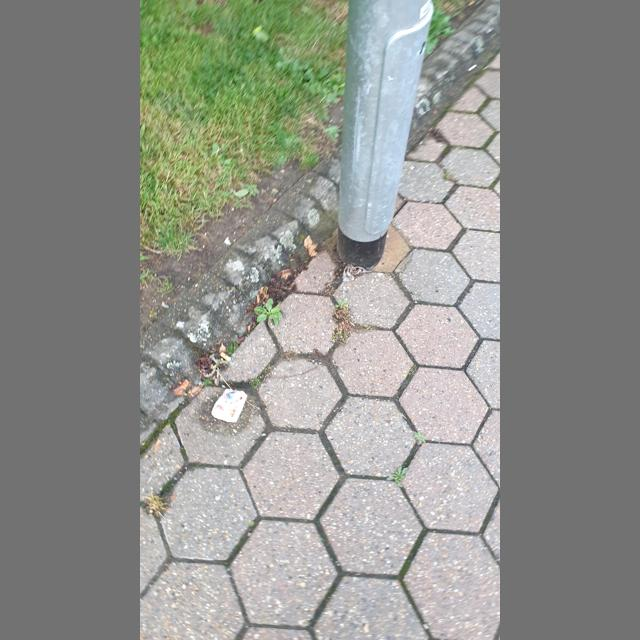litter: (211, 389, 247, 423), (220, 352, 231, 362)
